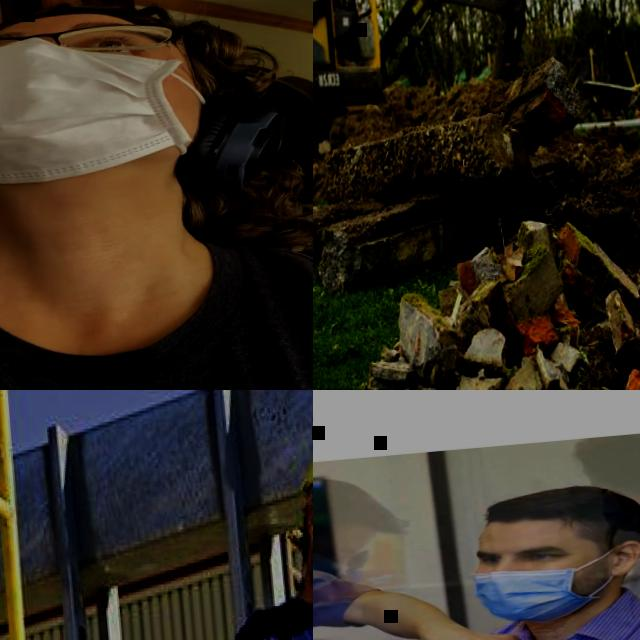Mask: (0, 27, 225, 195), (472, 560, 584, 629), (313, 549, 362, 594), (602, 486, 640, 539)
NO-Hardhat: (476, 478, 640, 548), (0, 0, 227, 36), (313, 472, 408, 540), (565, 432, 640, 481)
NO-Safety Vest: (0, 235, 313, 390)
Person: (0, 0, 313, 390), (388, 466, 640, 640), (313, 444, 519, 640), (193, 423, 313, 640), (313, 467, 410, 582), (581, 430, 640, 532), (313, 0, 361, 69)
vehicle: (313, 0, 539, 166)
